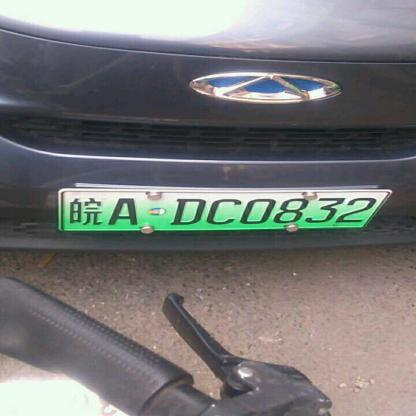lp: (63, 190, 385, 229)
